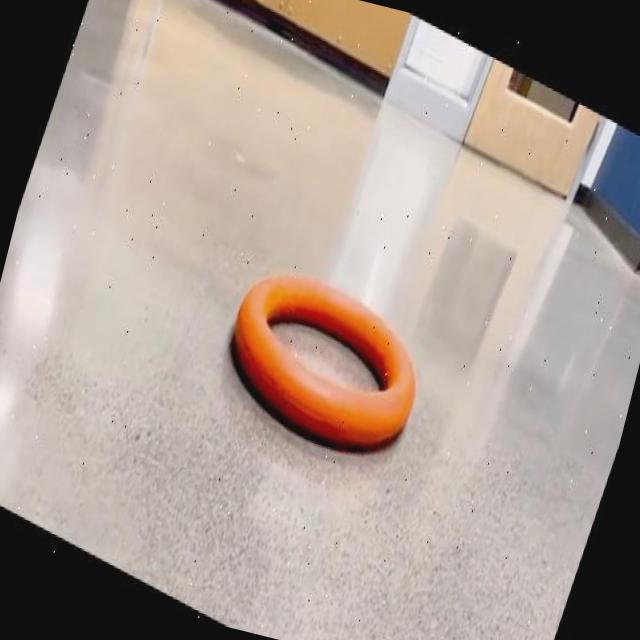note: (233, 271, 416, 447)
